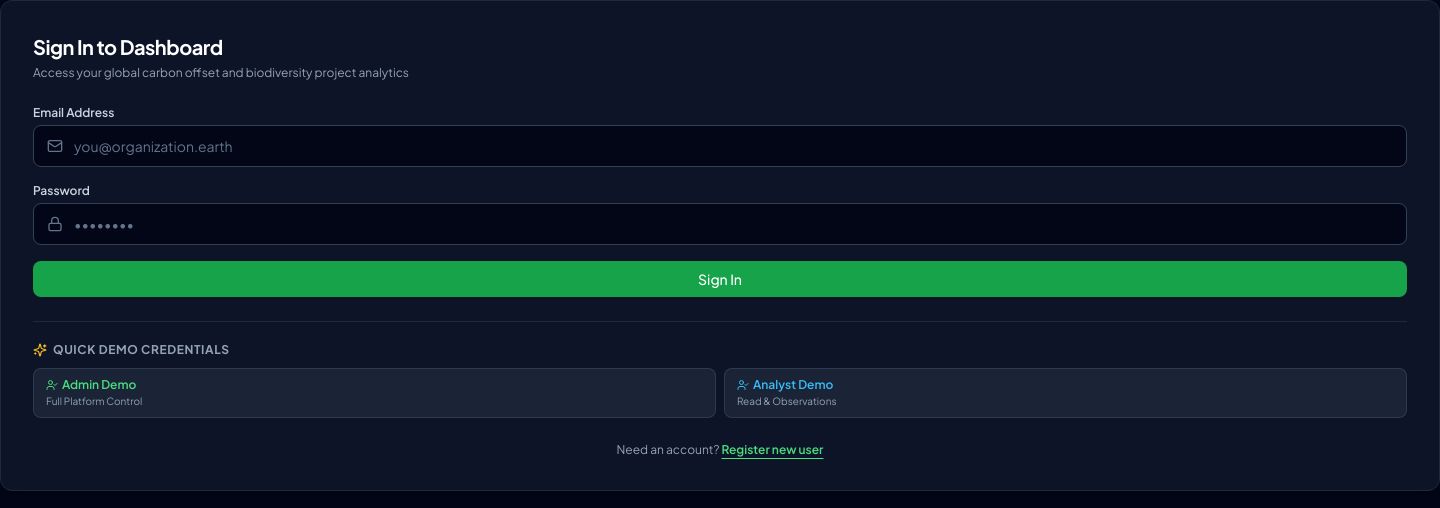
Test: LoginPage Component › populates admin demo credentials when Admin Demo button is clicked
The width and height of the screenshot is (1440, 508).
Click the button "Admin Demo Full Platform Control": x=99, y=384 [33,368,716,418]
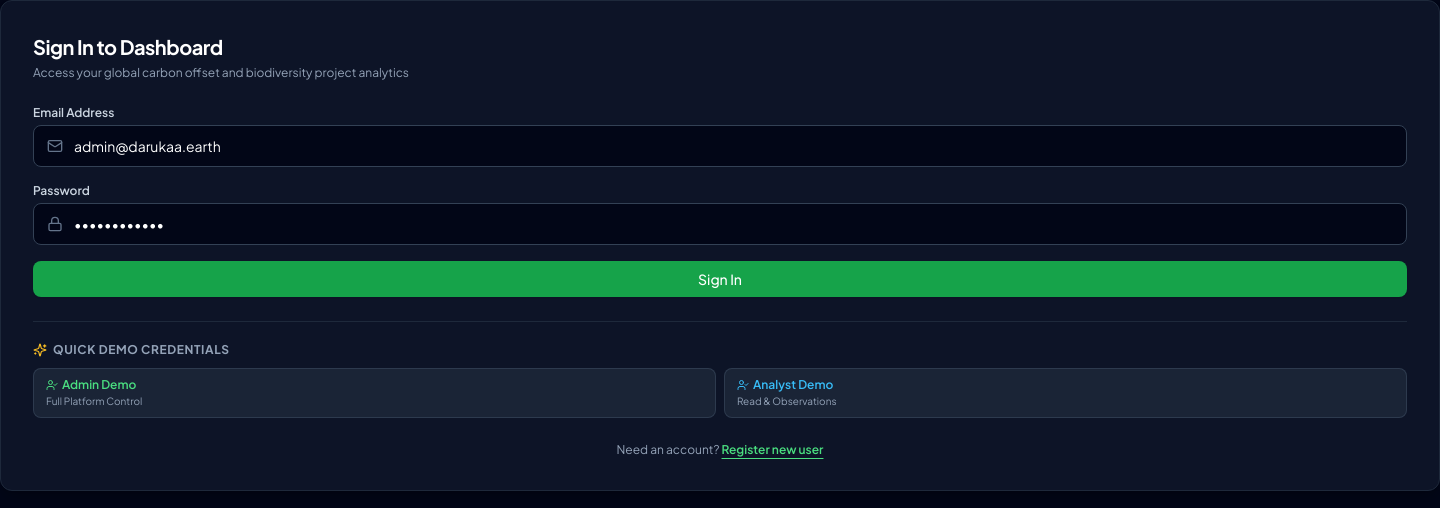
Check: the field with placeholder "you@organization.earth" holds "admin@darukaa.earth", box [33,125,1407,167]
Check: the password field with placeholder "••••••••" holds "Admin@123456", box [33,203,1407,245]
